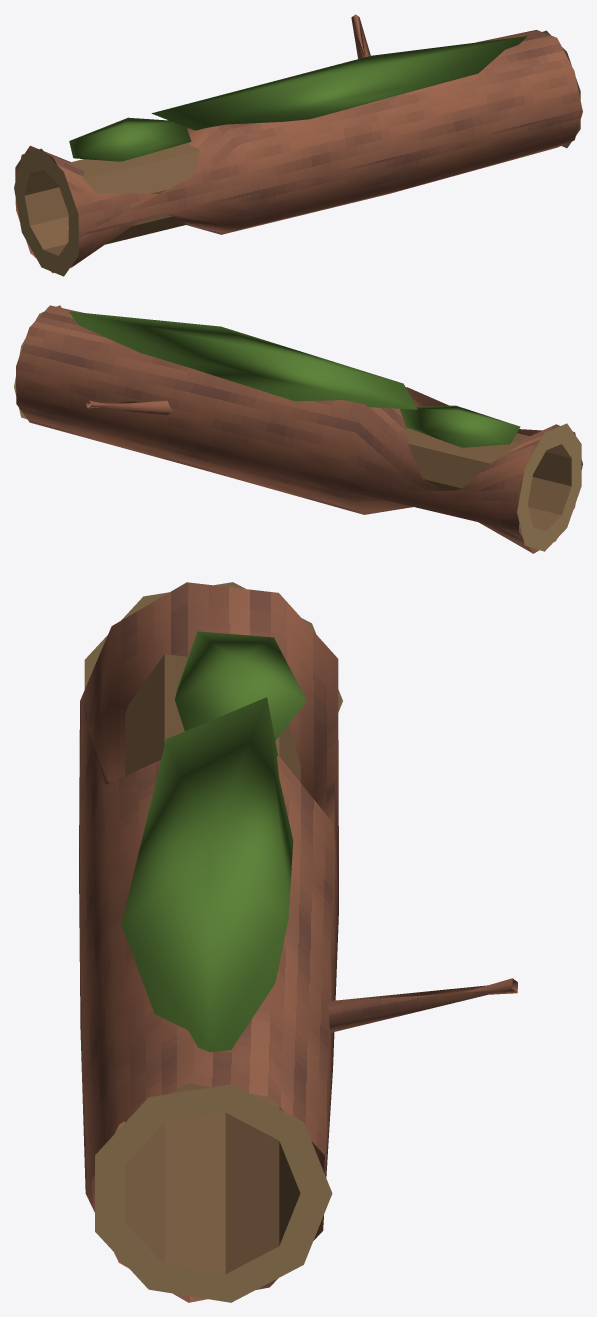
File: log_hollow.glb
The picture shows the model from 3 angles, top to bottom: view 1: azimuth 30°, elevation 25°; view 2: azimuth 150°, elevation 25°; view 3: azimuth 270°, elevation 25°; orthographic projection. The views are drawn at different scales.
Parts seen in each view (by area): view 1: log_hollow_Bark_Brown, log_hollow_Moss_Cap, log_hollow_Wood_Rot, log_hollow_Wood_EndGrain; view 2: log_hollow_Bark_Brown, log_hollow_Moss_Cap, log_hollow_Wood_Rot, log_hollow_Wood_EndGrain; view 3: log_hollow_Bark_Brown, log_hollow_Moss_Cap, log_hollow_Wood_Rot, log_hollow_Wood_EndGrain.
Part boxes in pixels (x1,y1,x2,y2): log_hollow_Bark_Brown: [15, 14, 582, 273]; log_hollow_Moss_Cap: [69, 36, 526, 161]; log_hollow_Wood_Rot: [24, 143, 200, 255]; log_hollow_Wood_EndGrain: [14, 30, 580, 276]; log_hollow_Bark_Brown: [16, 305, 582, 553]; log_hollow_Moss_Cap: [69, 311, 520, 447]; log_hollow_Wood_Rot: [405, 425, 571, 531]; log_hollow_Wood_EndGrain: [14, 305, 581, 551]; log_hollow_Bark_Brown: [79, 582, 517, 1302]; log_hollow_Moss_Cap: [121, 631, 306, 1052]; log_hollow_Wood_Rot: [125, 654, 300, 1274]; log_hollow_Wood_EndGrain: [84, 582, 342, 1302].
Size of the model in its own units: 4.2 by 1.01 by 1.58.
Materials: 4 (1 with a texture image).
